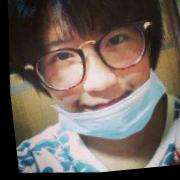WRONG: (29, 1, 161, 149)
